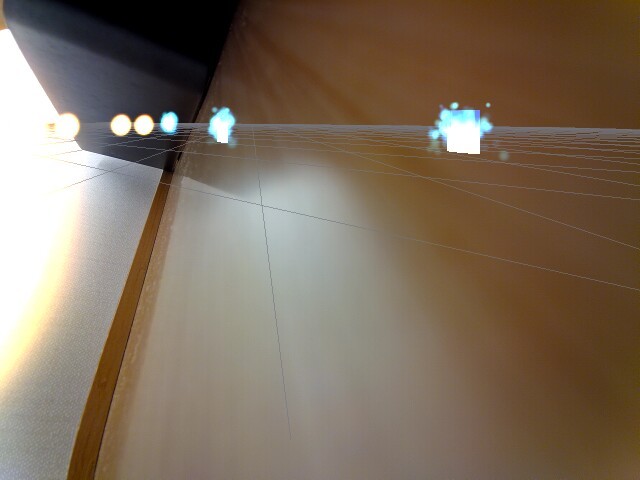firebig: (0, 142, 76, 376)
